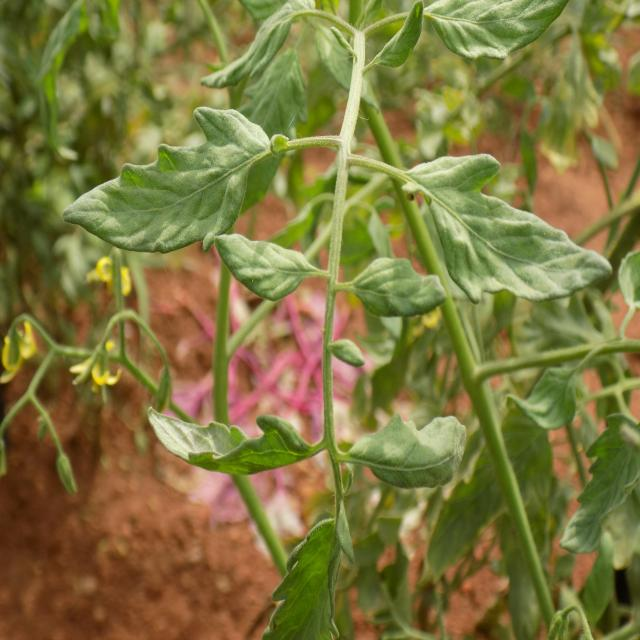tomato_healthy: (397, 154, 612, 306), (61, 106, 278, 256), (142, 412, 314, 484), (347, 406, 474, 483), (214, 227, 322, 303), (353, 247, 453, 319)
